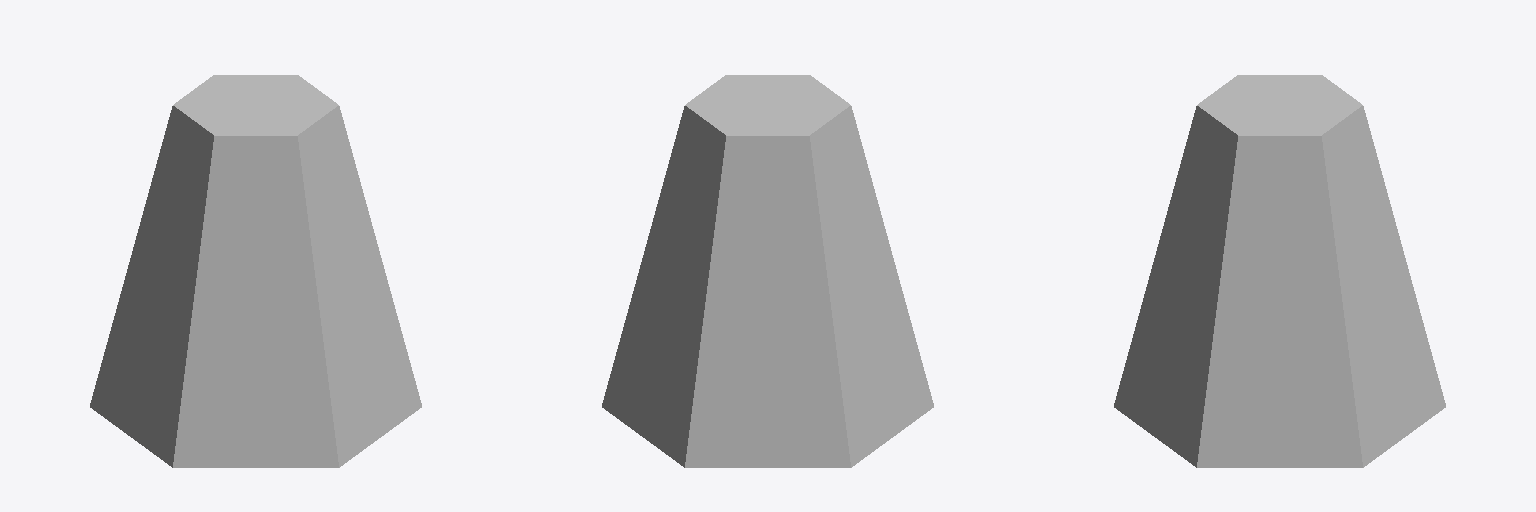
File: table.obj
The picture shows the model from 3 angles: view 1: azimuth 30°, elevation 25°; view 2: azimuth 150°, elevation 25°; view 3: azimuth 270°, elevation 25°; orthographic projection.
Size of the model in its own units: 1.73 by 2 by 2.